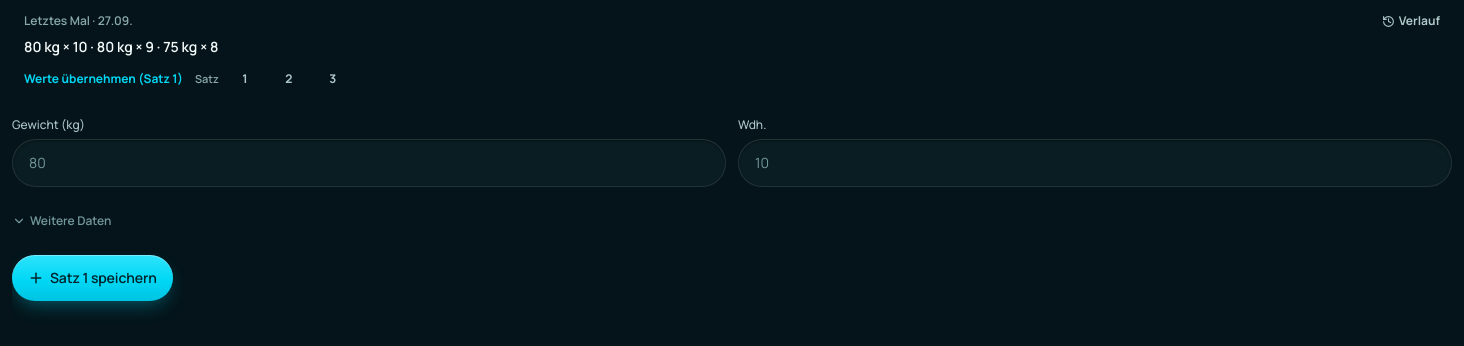
Test: SetLogger — suggestions and copying › "Werte übernehmen" only fills the inputs and says so — nothing is saved
The width and height of the screenshot is (1464, 346).
Click the button "Werte übernehmen (Satz 1)" at {"x": 104, "y": 79}, box [18, 57, 189, 101]
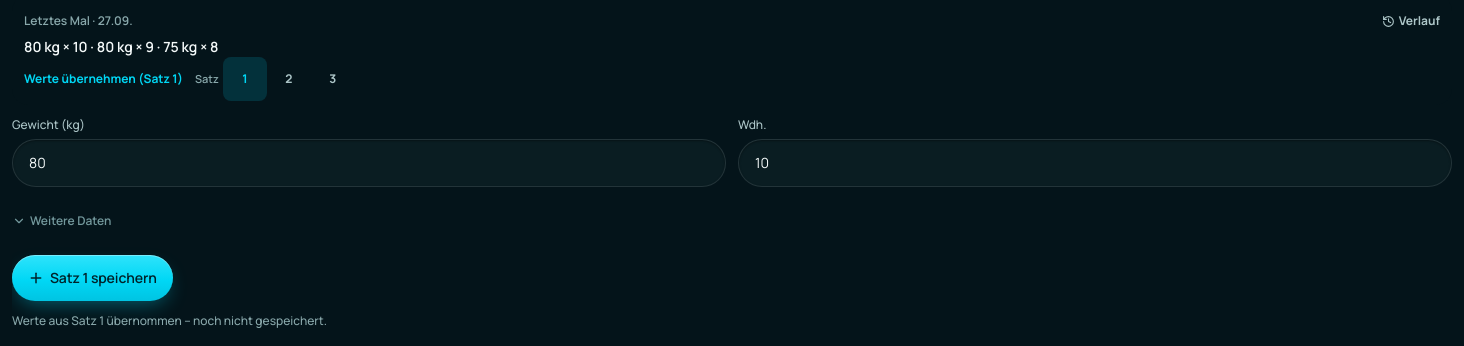
Expected: the button "Satz 1 speichern" is shown, [12, 255, 173, 301]
Expected: the field named "reps" holds "10", [738, 139, 1452, 187]
Expected: the text "Werte aus Satz 1 übernommen – noch nicht gespeichert." is shown, [12, 312, 327, 329]
